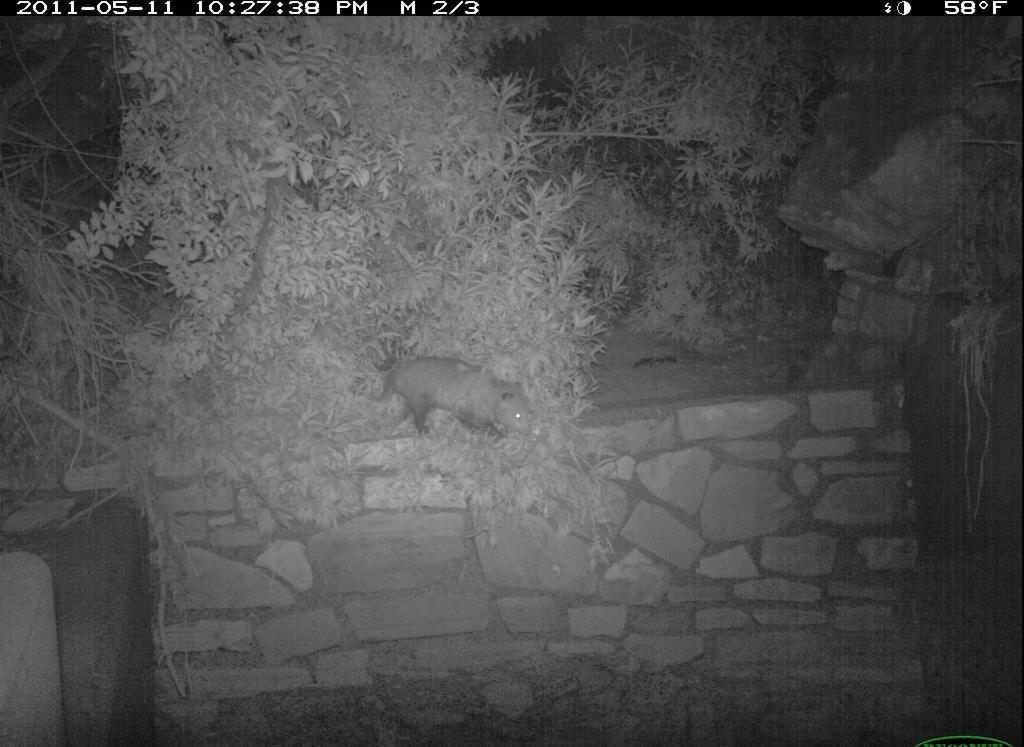opossum: (363, 350, 546, 452)
